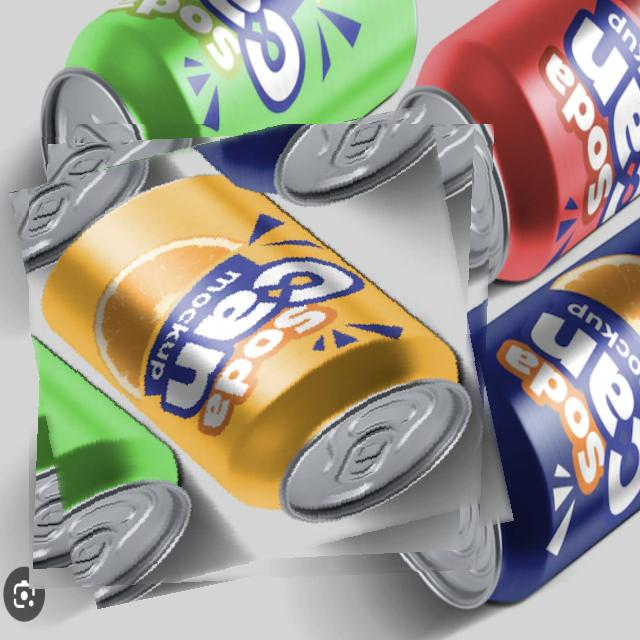recyclable: (29, 124, 495, 590)
